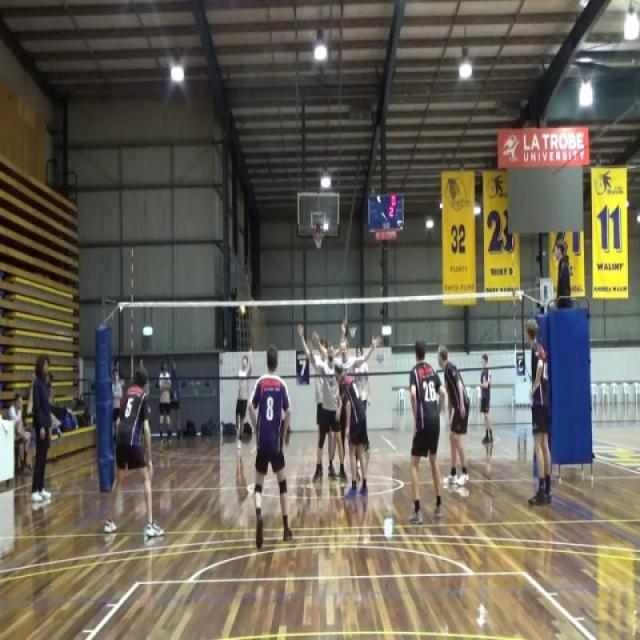volleyball: (239, 302, 246, 316)
